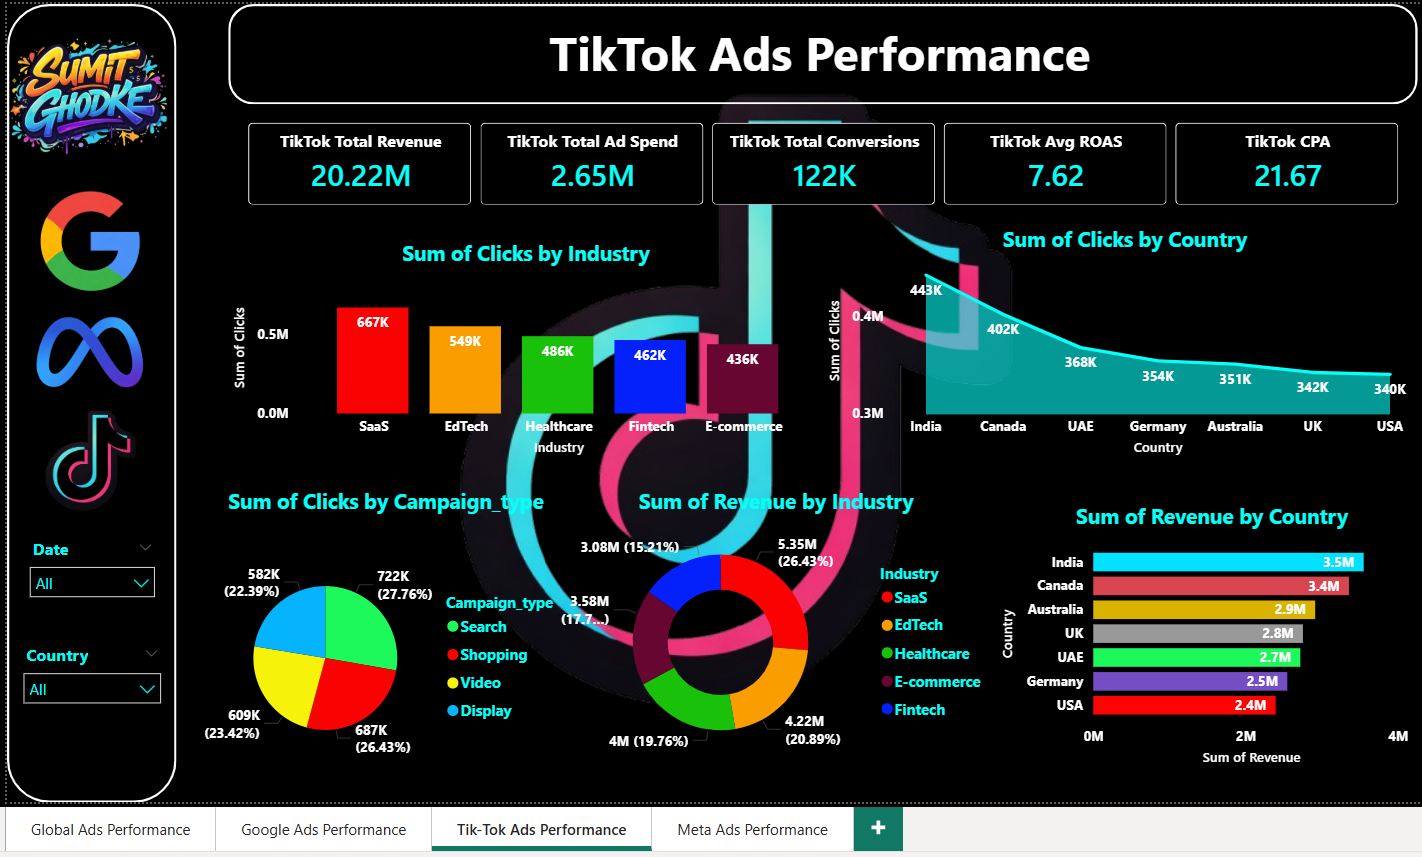

The dashboard page shown, as its layout file describes it:
{"tool":"powerbi","page":{"name":"Tik-Tok Ads Performance","canvas":[1280,720],"ordinal":2},"visuals":[{"type":"shape","box":[199.3,0,1072.4,90.5],"z":0},{"type":"shape","box":[0,0,152.9,720.2],"z":1000},{"type":"textbox","box":[209.1,8.6,1046.7,72.1],"z":2000},{"type":"image","box":[0,0,144.3,161.4],"z":3000},{"type":"image","box":[25.7,161.4,99,100.3],"z":4000},{"type":"image","box":[25.7,261.7,99,100.3],"z":5000},{"type":"image","box":[25.7,362,99,100.3],"z":6000},{"type":"clusteredColumnChart","fields":{"Y":["Sum(TikTok Ads.Clicks)"],"Category":["TikTok Ads.Industry"]},"box":[199.3,211.6,536.8,200.5],"z":7000},{"type":"clusteredBarChart","fields":{"Y":["Sum(TikTok Ads.Revenue)"],"Category":["TikTok Ads.Country"]},"box":[892.7,448.8,387.6,243.3],"z":8000},{"type":"pieChart","fields":{"Y":["Sum(TikTok Ads.Clicks)"],"Category":["TikTok Ads.Campaign_type"]},"box":[173.6,435.3,336.3,284.9],"z":9000},{"type":"stackedAreaChart","fields":{"Y":["Sum(TikTok Ads.Clicks)"],"Category":["TikTok Ads.Country"]},"box":[736.1,199.3,544.2,212.8],"z":10000},{"type":"slicer","fields":{"Values":["TikTok Ads.Date"]},"box":[9.8,475.7,133.3,75.8],"z":11000},{"type":"slicer","fields":{"Values":["Google Ads.Country"]},"box":[4.9,571.1,144.3,79.5],"z":12000},{"type":"cardVisual","fields":{"Data":["Google Ads.TikTok Total Revenue","Google Ads.TikTok Total Ad Spend","Google Ads.TikTok Total Conversions","Google Ads.TikTok Avg ROAS","Google Ads.TikTok CPA"]},"box":[200.5,90.5,1072.4,108.8],"z":13000},{"type":"donutChart","fields":{"Category":["TikTok Ads.Industry"],"Y":["Sum(TikTok Ads.Revenue)"]},"box":[495.2,435.3,397.4,256.8],"z":14000}]}

Visuals, with their boxes on the page's 1280x720 design canvas (x1, y1, x2, y2). These are canvas units, not pixel positions in the 1422x857 screenshot, which may show the page scaled, cropped or inside an application window:
shape: x1=199, y1=0, x2=1272, y2=90
shape: x1=0, y1=0, x2=153, y2=720
textbox: x1=209, y1=9, x2=1256, y2=81
image: x1=0, y1=0, x2=144, y2=161
image: x1=26, y1=161, x2=125, y2=262
image: x1=26, y1=262, x2=125, y2=362
image: x1=26, y1=362, x2=125, y2=462
clusteredColumnChart - Sum(TikTok Ads.Clicks) x TikTok Ads.Industry: x1=199, y1=212, x2=736, y2=412
clusteredBarChart - Sum(TikTok Ads.Revenue) x TikTok Ads.Country: x1=893, y1=449, x2=1280, y2=692
pieChart - Sum(TikTok Ads.Clicks) x TikTok Ads.Campaign_type: x1=174, y1=435, x2=510, y2=720
stackedAreaChart - Sum(TikTok Ads.Clicks) x TikTok Ads.Country: x1=736, y1=199, x2=1280, y2=412
slicer - TikTok Ads.Date: x1=10, y1=476, x2=143, y2=552
slicer - Google Ads.Country: x1=5, y1=571, x2=149, y2=651
cardVisual - Google Ads.TikTok Total Revenue x Google Ads.TikTok Total Ad Spend: x1=200, y1=90, x2=1273, y2=199
donutChart - TikTok Ads.Industry x Sum(TikTok Ads.Revenue): x1=495, y1=435, x2=893, y2=692
